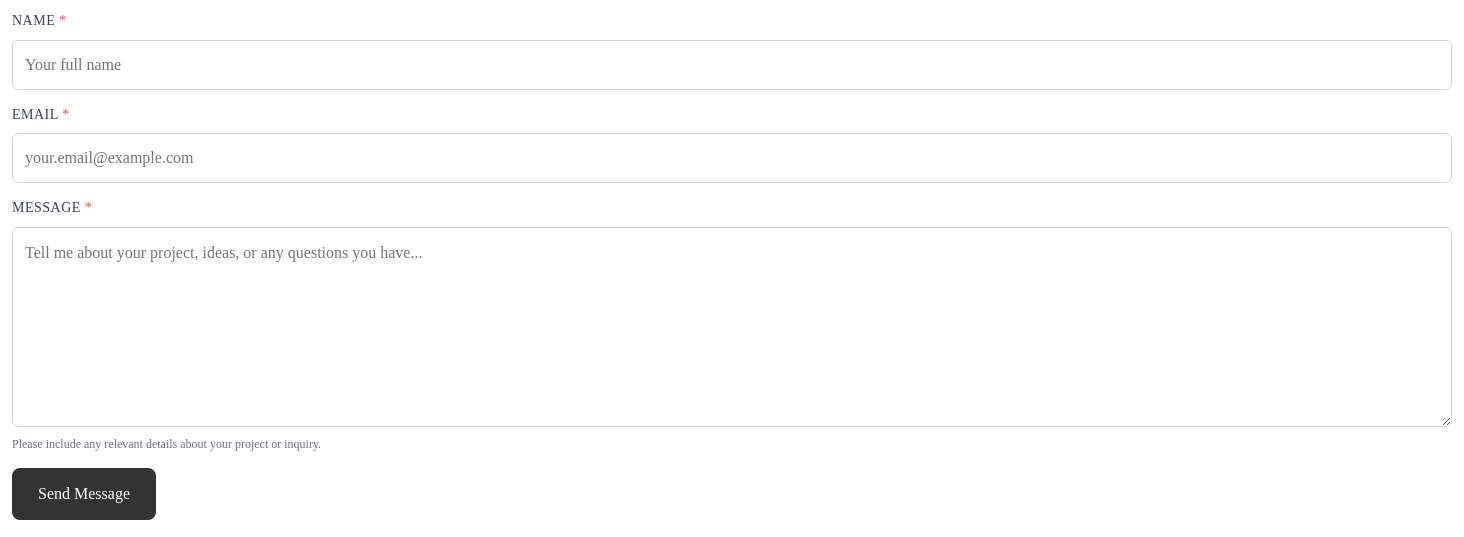
Test case: Contact Form Real Integration Tests › Form Accessibility and UX › should show loading state during submission
// Fill and submit form
Type "Loading Test" into the field labelled "Name *".
click(732, 64); type("Loading Test")  # box [12,40,1452,90]
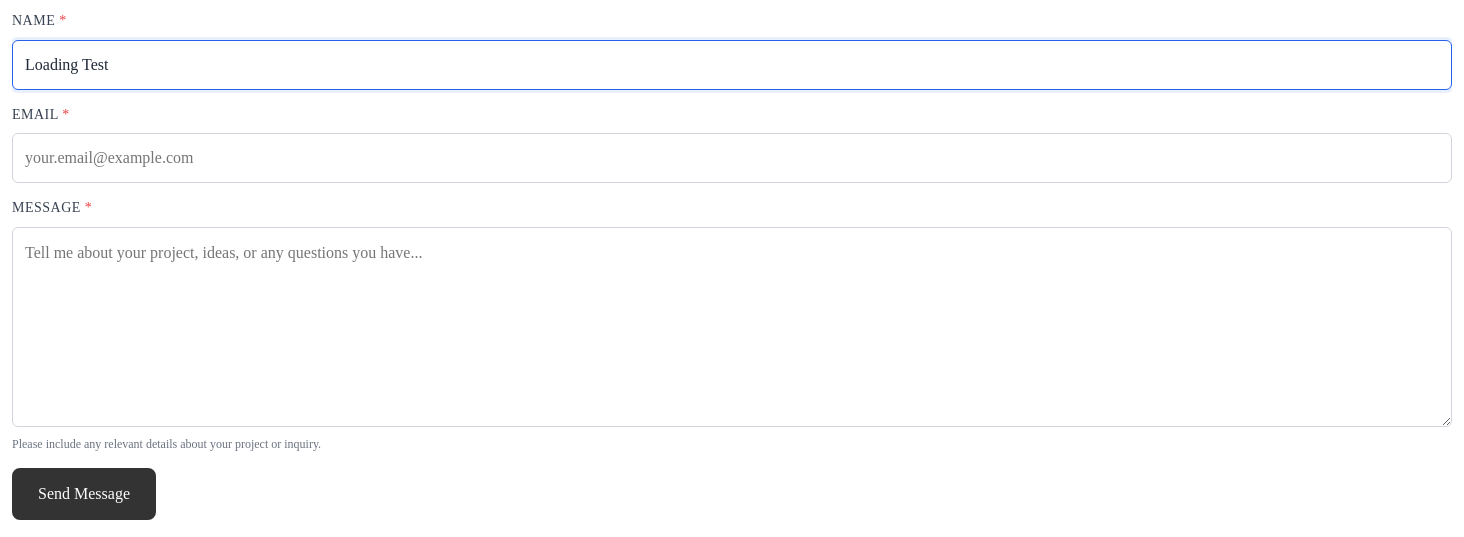
Type "loading@example.com" into the field labelled "Email *".
click(732, 158); type("loading@example.com")  # box [12,133,1452,183]
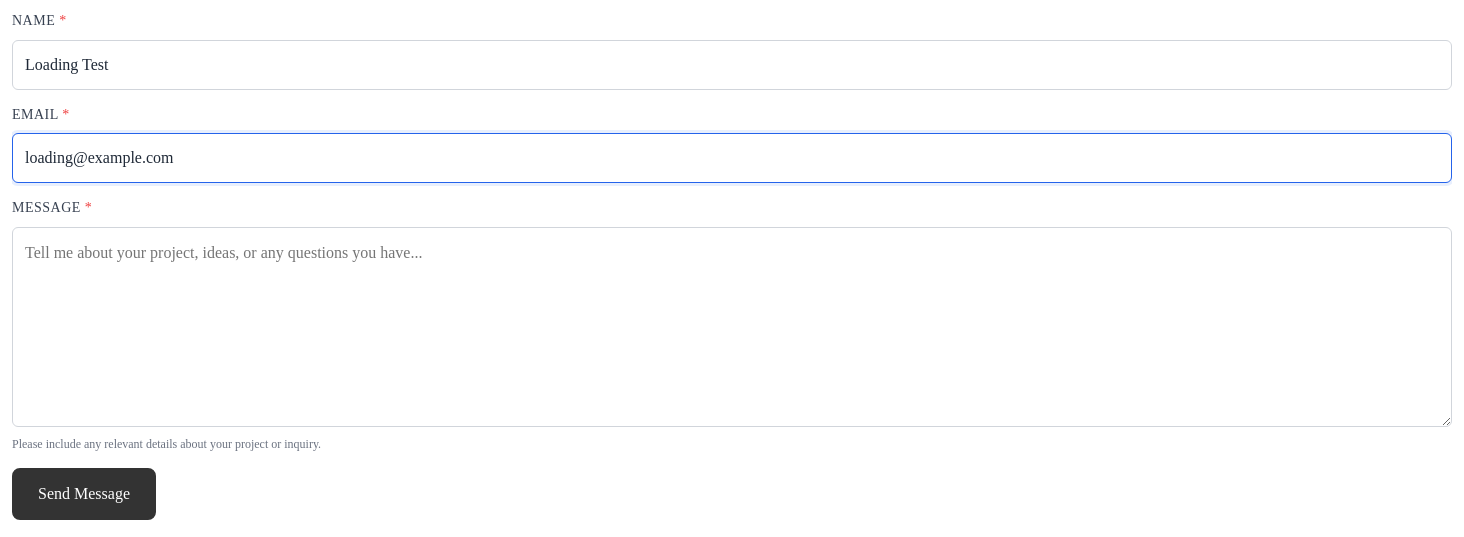
Type "Testing loading state behavior with proper message length." into the text box labelled "Message *".
click(732, 326); type("Testing loading state behavior with proper message length.")  # box [12,226,1452,426]
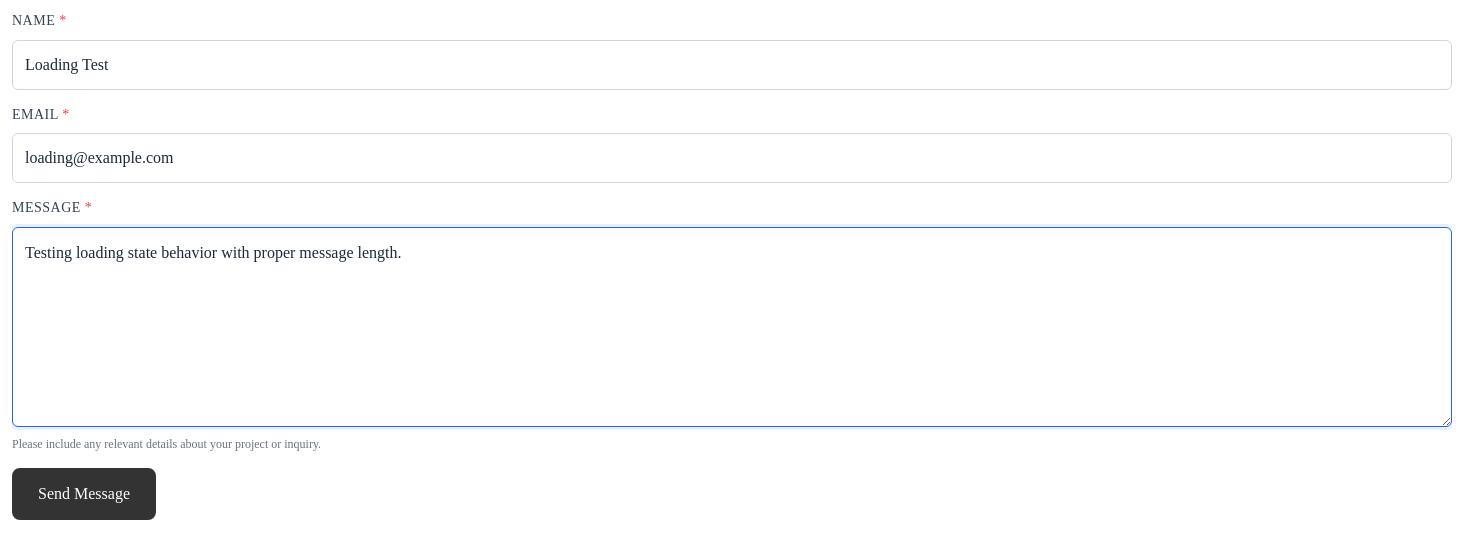
Click the button "Send Message".
click(84, 494)  # box [12,468,156,520]
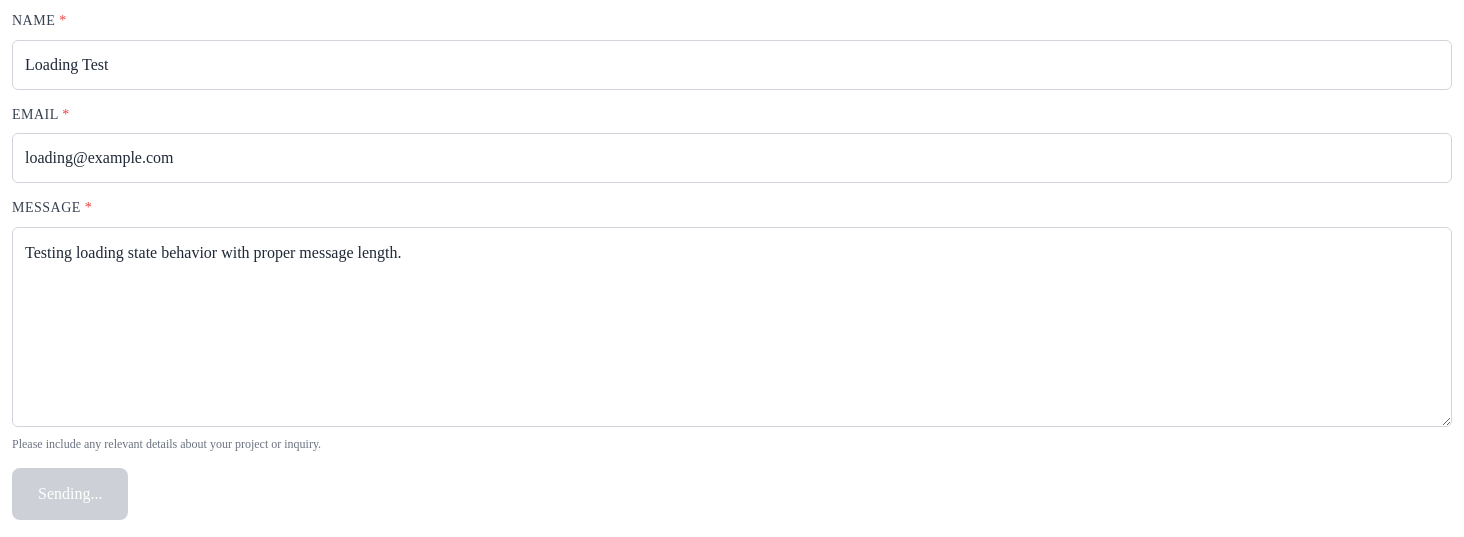
Expected: the button "Sending..." is disabled, [12,468,128,520]
